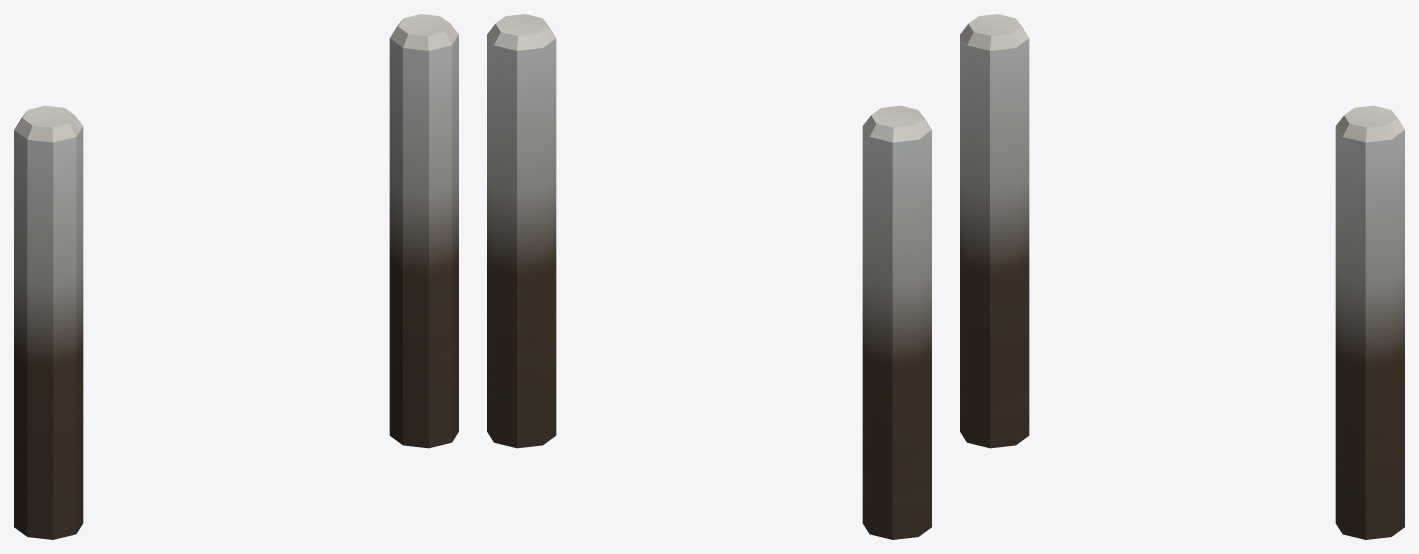
Rendered from Fence_Door_Post_Snow.obj.
3 views of the same model, side by side, from view 1: azimuth 30°, elevation 25°; view 2: azimuth 150°, elevation 25°; view 3: azimuth 330°, elevation 25° (orthographic).
Parts seen in each view (by area): view 1: Fence_Door_Post_Snow; view 2: Fence_Door_Post_Snow; view 3: Fence_Door_Post_Snow.
Part boxes in pixels (x1,y1,x2,y2): Fence_Door_Post_Snow: [14, 14, 458, 539]; Fence_Door_Post_Snow: [487, 14, 931, 539]; Fence_Door_Post_Snow: [960, 14, 1404, 539].
Size of the model in its own units: 1.22 by 1.11 by 0.1583.
